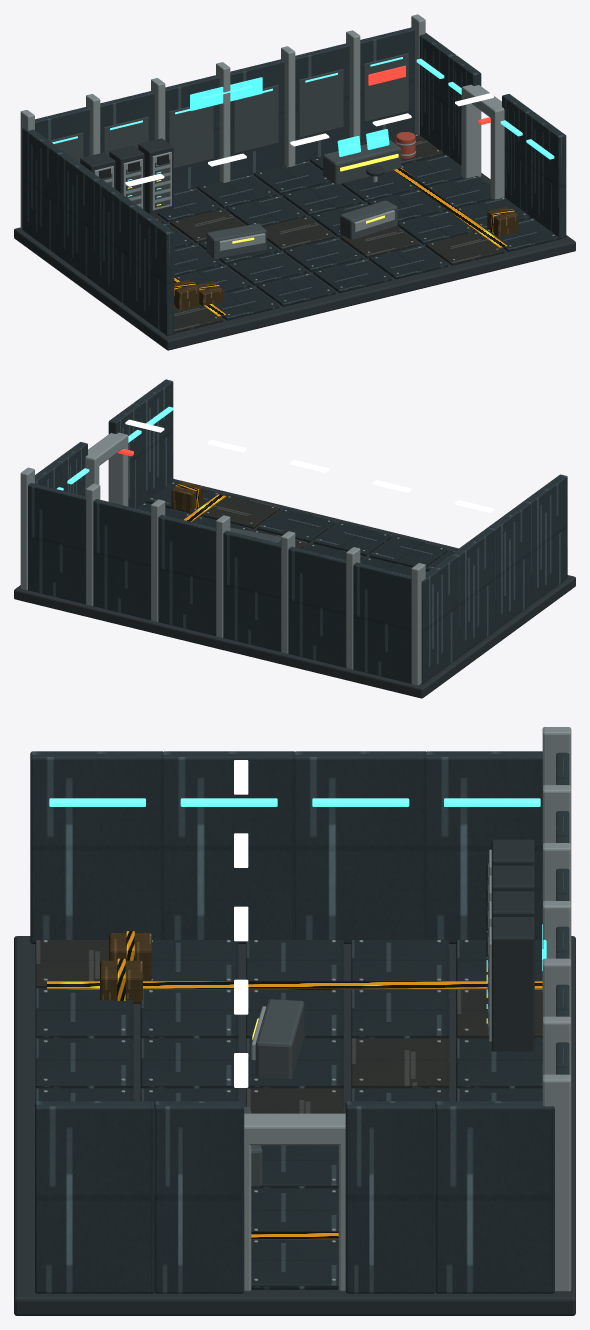
The model's file is infiltration-room.glb.
3 views of the same model, one above another, from view 1: azimuth 30°, elevation 25°; view 2: azimuth 150°, elevation 25°; view 3: azimuth 270°, elevation 25° (orthographic). The views are drawn at different scales.
Parts seen in each view (by area): view 1: Floor.Foundation, SideWall.-1.0, SideWall.1.0, SideWall.-1.1, SideWall.-1.2, SideWall.-1.3, SideWall.1.3, BackWall.Panel.4, BackWall.Panel.3, BackWall.Panel.5, BackWall.Panel.2, BackWall.Panel.4.Inset (+61 smaller); view 2: Floor.Foundation, BackWall.Panel.0, BackWall.Panel.2, BackWall.Panel.4, BackWall.Panel.5, BackWall.Panel.1, BackWall.Panel.3, SideWall.-1.3, SideWall.-1.2, SideWall.-1.0, SideWall.-1.1, SideWall.1.0 (+19 smaller); view 3: Floor.Foundation, SideWall.-1.0, SideWall.-1.2, SideWall.1.0, SideWall.1.3, SideWall.-1.1, SideWall.1.1, SideWall.1.2, SideWall.-1.3, Server.3.Body, Floor.Panel.2.0, Floor.Panel.2.3 (+43 smaller).
Part boxes in pixels (bbox=[...]): Floor.Foundation: bbox=[14, 160, 575, 350]; SideWall.-1.0: bbox=[130, 205, 174, 335]; SideWall.1.0: bbox=[526, 112, 566, 238]; SideWall.-1.1: bbox=[94, 179, 137, 308]; SideWall.-1.2: bbox=[58, 153, 101, 282]; SideWall.-1.3: bbox=[22, 128, 65, 256]; SideWall.1.3: bbox=[419, 33, 456, 156]; BackWall.Panel.4: bbox=[295, 43, 349, 162]; BackWall.Panel.3: bbox=[230, 59, 284, 178]; BackWall.Panel.5: bbox=[360, 27, 414, 145]; BackWall.Panel.2: bbox=[165, 75, 219, 192]; BackWall.Panel.4.Inset: bbox=[299, 69, 343, 137]; Floor.Foundation: bbox=[14, 479, 575, 698]; BackWall.Panel.0: bbox=[353, 562, 411, 683]; BackWall.Panel.2: bbox=[223, 530, 280, 651]; BackWall.Panel.4: bbox=[93, 499, 150, 620]; BackWall.Panel.5: bbox=[28, 483, 85, 604]; BackWall.Panel.1: bbox=[288, 546, 345, 667]; BackWall.Panel.3: bbox=[158, 514, 215, 635]; SideWall.-1.3: bbox=[421, 553, 459, 683]; SideWall.-1.2: bbox=[452, 527, 495, 656]; SideWall.-1.0: bbox=[524, 474, 567, 604]; SideWall.-1.1: bbox=[488, 501, 531, 630]; SideWall.1.0: bbox=[133, 379, 173, 504]; Floor.Foundation: bbox=[14, 936, 575, 1315]; SideWall.-1.0: bbox=[30, 751, 163, 943]; SideWall.-1.2: bbox=[295, 751, 426, 943]; SideWall.1.0: bbox=[35, 1101, 154, 1293]; SideWall.1.3: bbox=[435, 1101, 554, 1293]; SideWall.-1.1: bbox=[163, 751, 294, 943]; SideWall.1.1: bbox=[154, 1101, 244, 1293]; SideWall.1.2: bbox=[345, 1101, 435, 1293]; SideWall.-1.3: bbox=[426, 751, 542, 943]; Server.3.Body: bbox=[491, 917, 534, 1051]; Floor.Panel.2.0: bbox=[35, 1038, 133, 1088]; Floor.Panel.2.3: bbox=[351, 1038, 449, 1088].
Size of the model in its own units: 14.4 by 4.28 by 9.4.
Materials: 15 (5 with a texture image).
